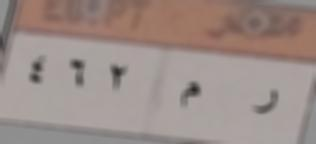2: (103, 60, 135, 99)
6: (23, 55, 54, 90), (66, 59, 95, 90)
meem: (171, 79, 210, 113)
raa: (244, 83, 282, 125)
